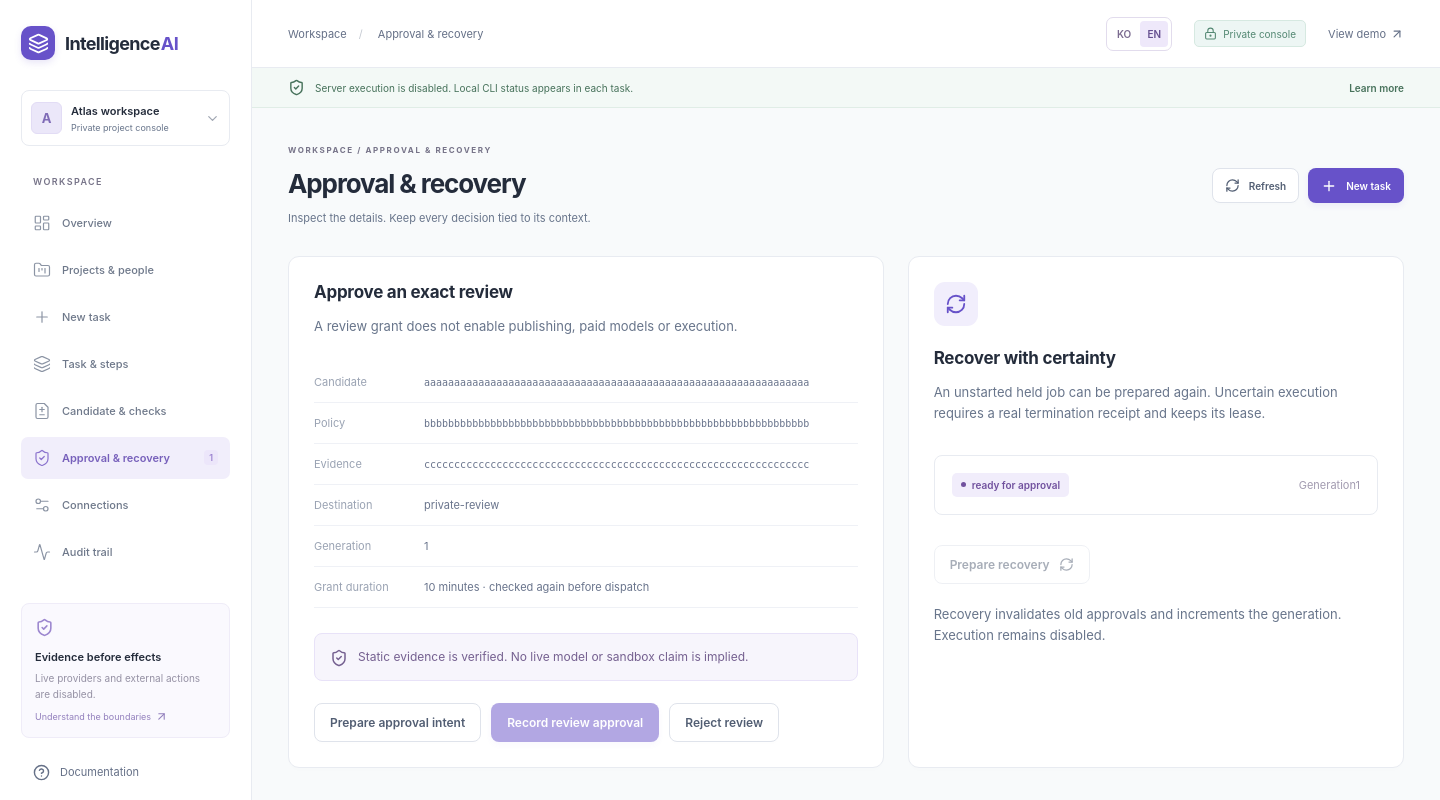
private boundary and failure flows › retries the same approval payload and key after a later language rerender
The width and height of the screenshot is (1440, 800).
Expected: the text "Static evidence is verified. No live model or sandbox claim is implied." is shown, [358,649,748,664]
Click the button "Prepare approval intent": (398, 723) [314,703,481,742]
(page scrolled)
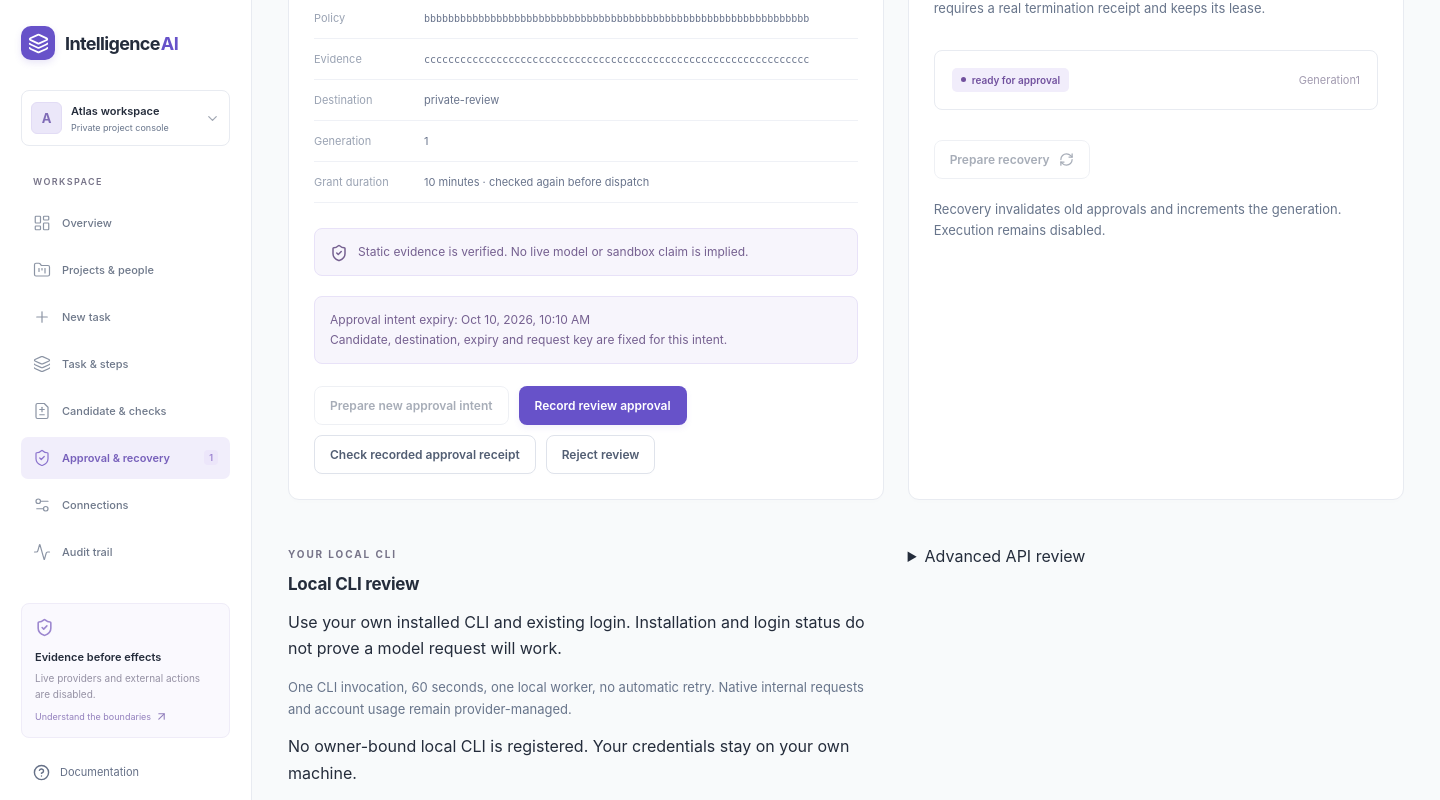
Click the button "Record review approval": (603, 405) [518,386,687,425]
(page scrolled)
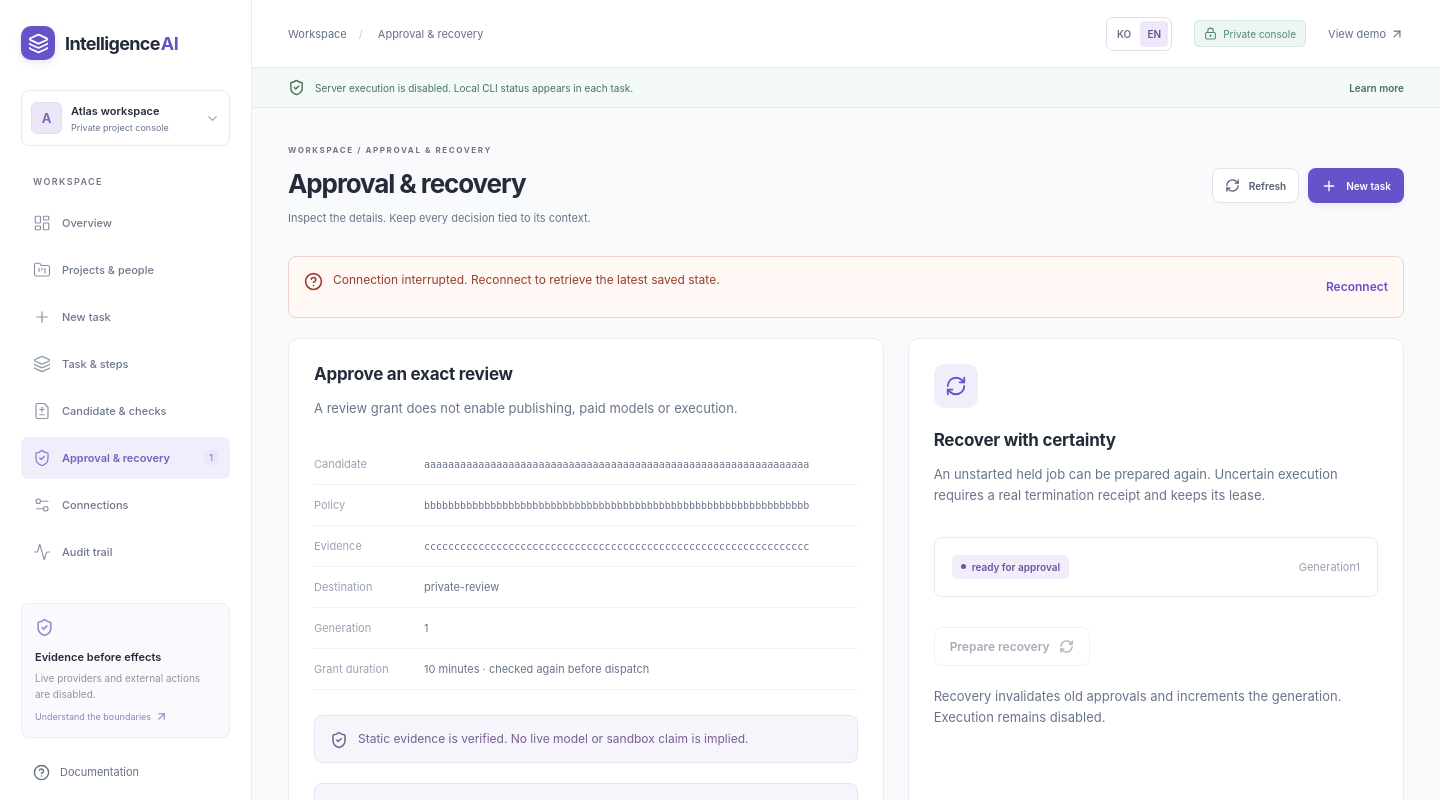
Now the message is shown, box [288,256,1404,318]
Click the button with aria-label "Switch to Korean": (1124, 34) [1110,20,1138,46]
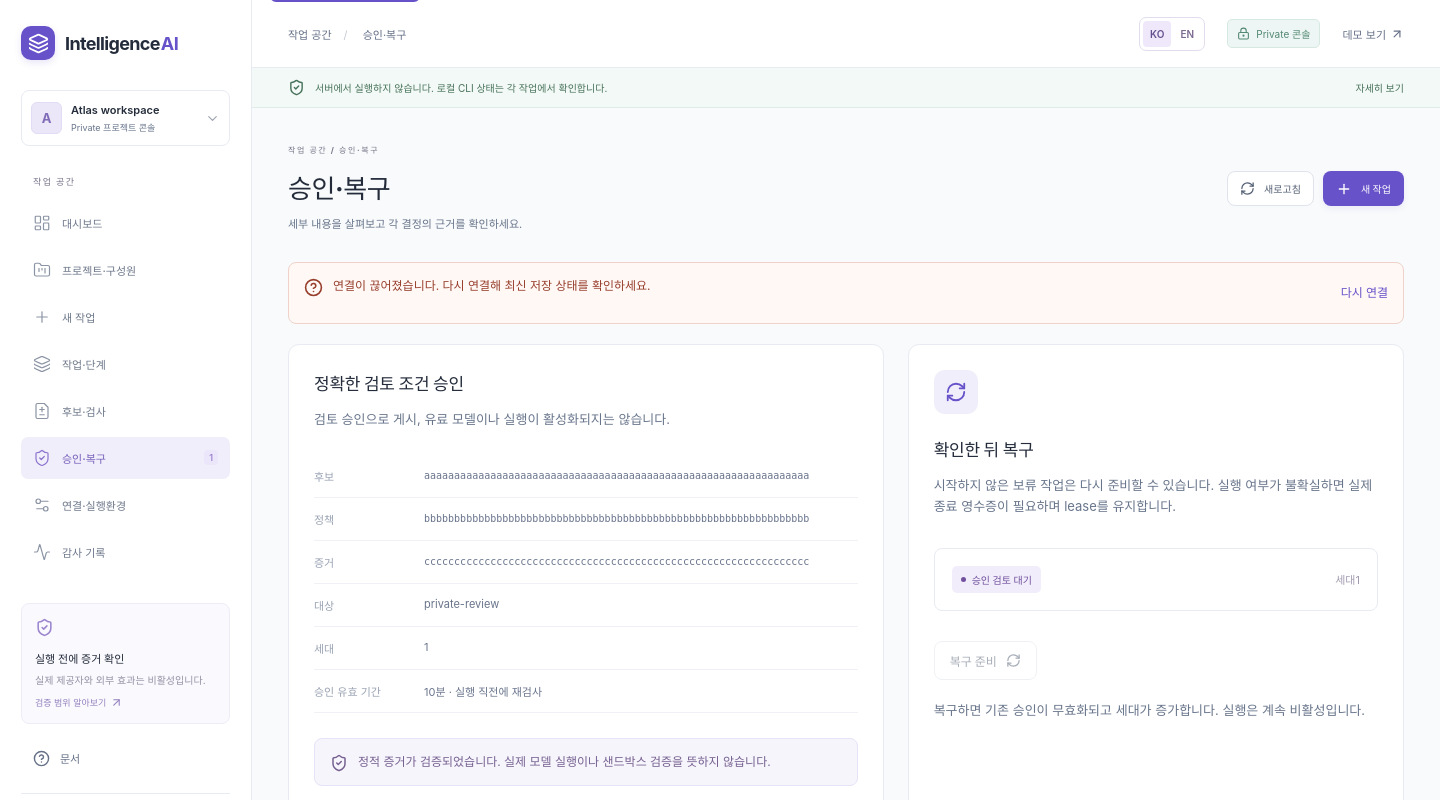
Click the button with aria-label "영어로 전환": (1187, 34) [1173,20,1201,46]
(page scrolled)
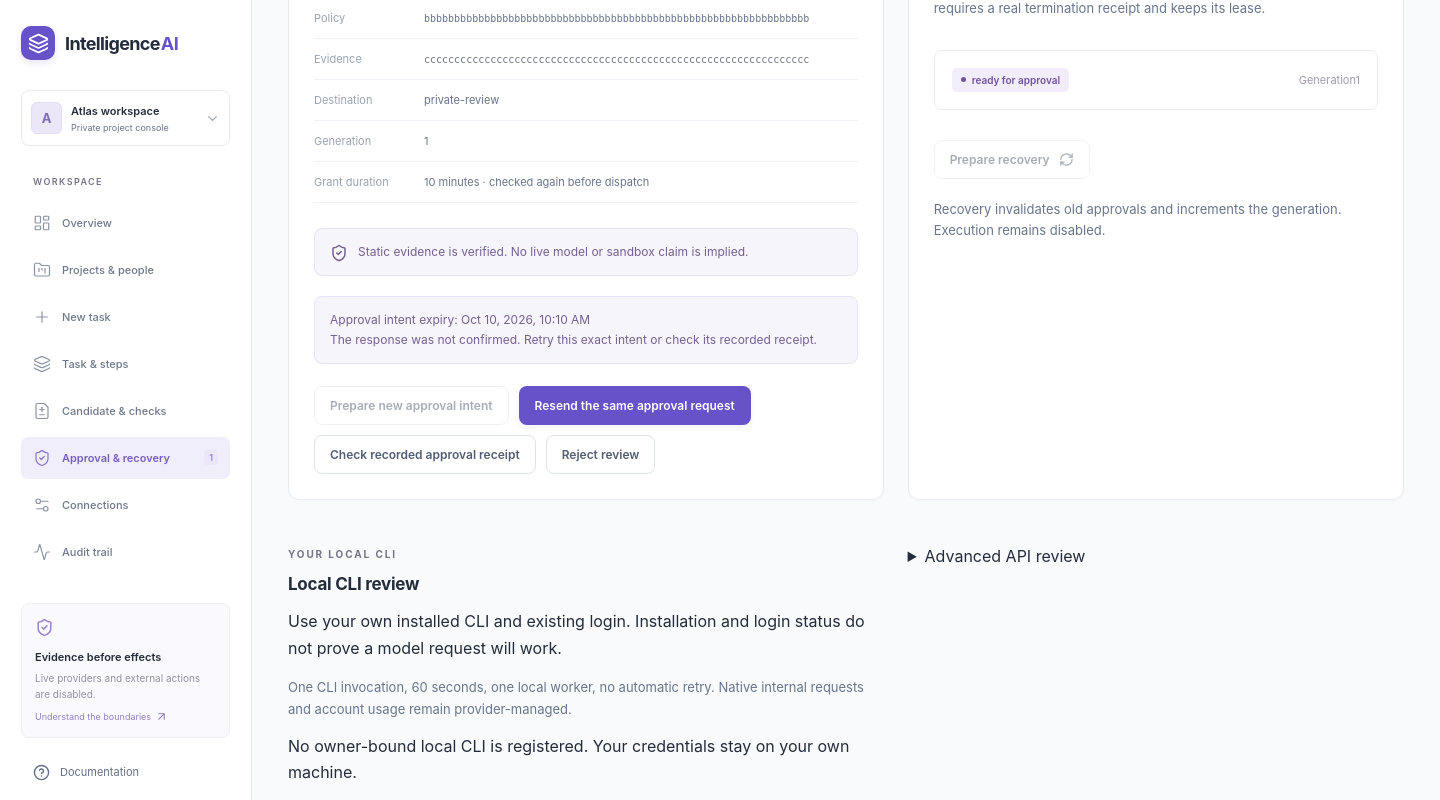
Click the button "Resend the same approval request": (635, 405) [518,386,751,425]
(page scrolled)
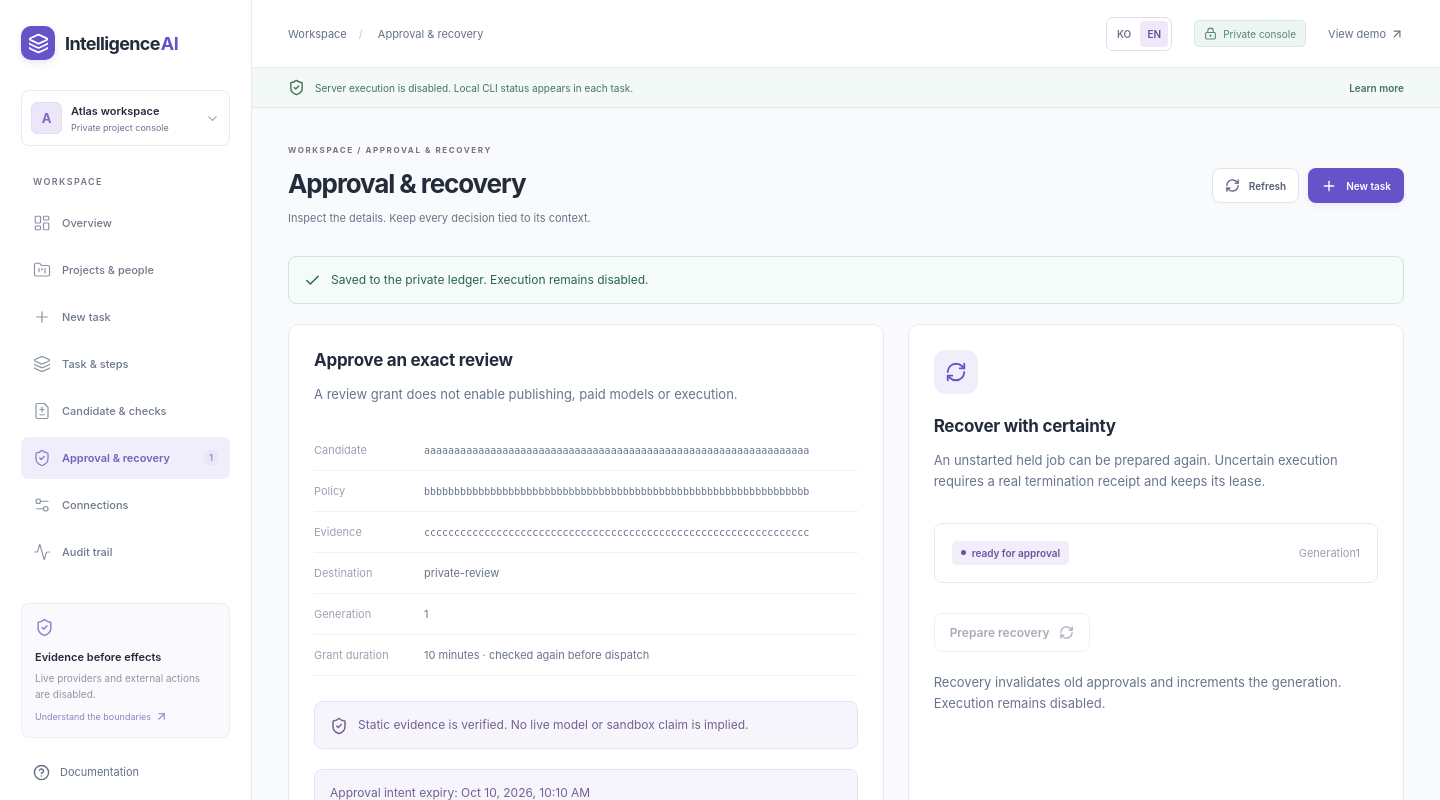
Now the message "Saved to the private ledger. Execution remains disabled." is shown, box [288,256,1404,304]
